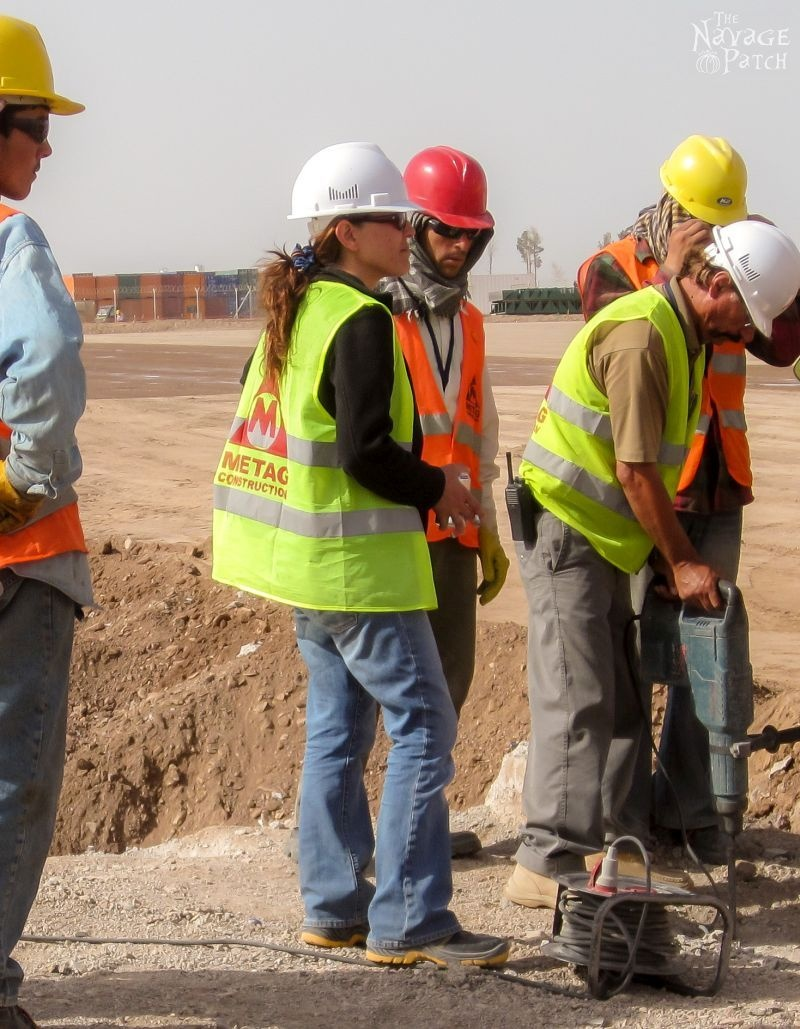red: (401, 143, 491, 276)
white: (289, 141, 416, 275), (683, 218, 800, 350)
yellow: (2, 12, 72, 201), (656, 132, 753, 237)
